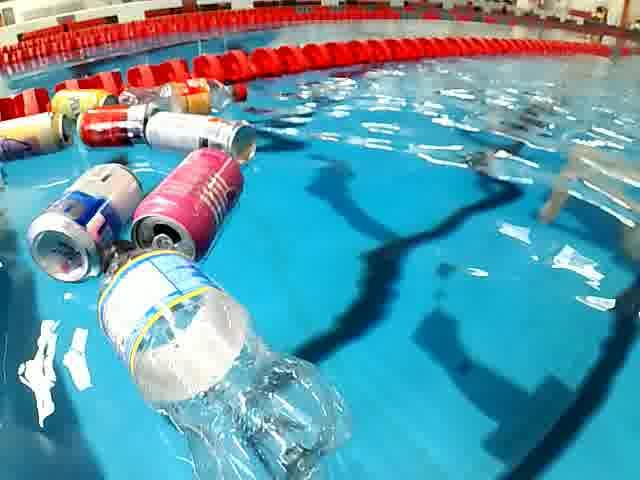Bottle: (92, 236, 356, 480), (116, 76, 256, 125)
Can: (130, 144, 250, 266), (25, 168, 147, 286), (142, 107, 268, 165), (0, 109, 76, 165), (72, 106, 168, 148), (42, 86, 124, 126)
